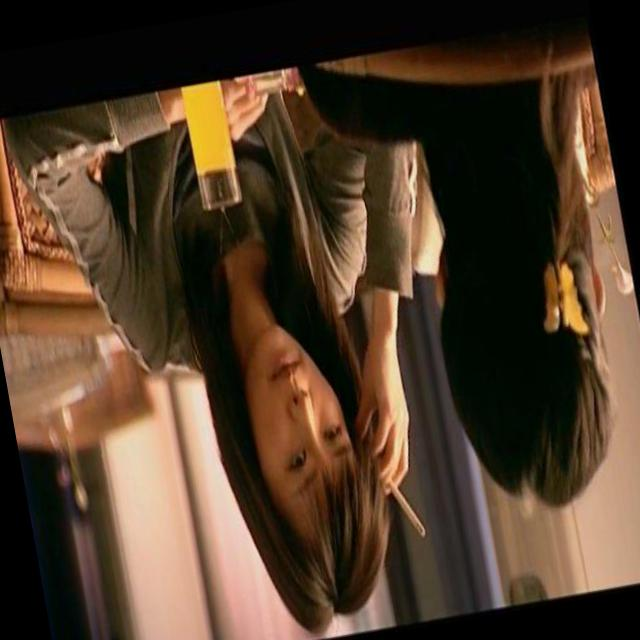smoke: (376, 455, 434, 553)
